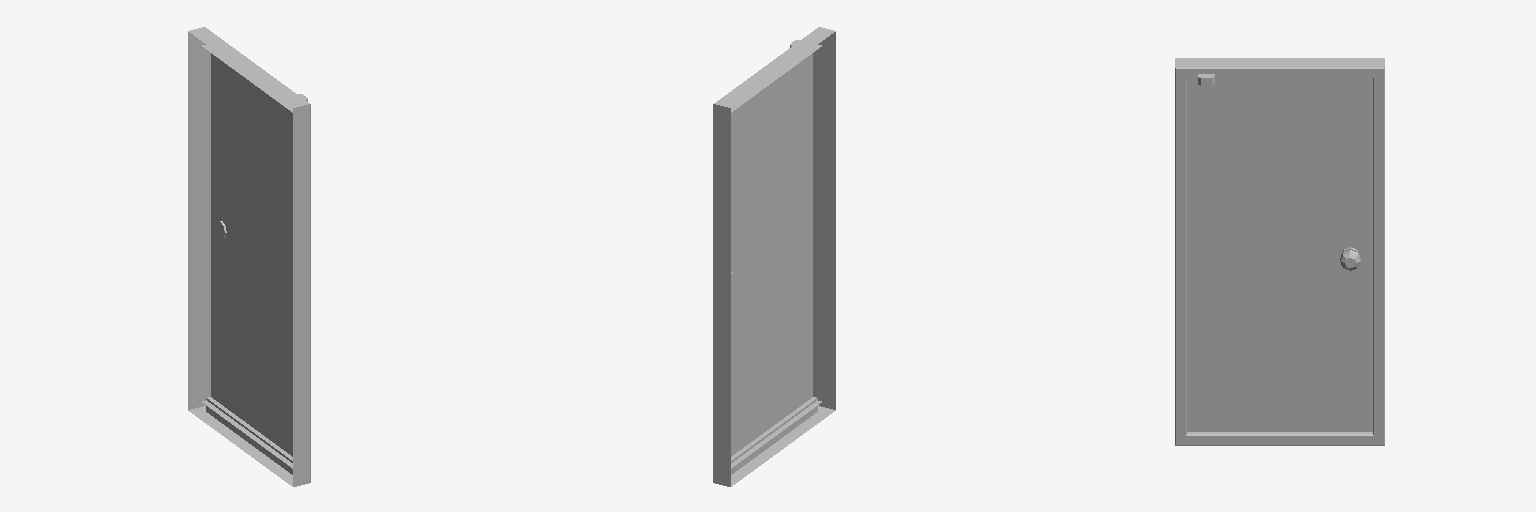
Rendered from Door_Low.obj.
3 views of the same model, side by side, from view 1: azimuth 30°, elevation 25°; view 2: azimuth 150°, elevation 25°; view 3: azimuth 270°, elevation 25° (orthographic).
Parts seen in each view (by area): view 1: Low; view 2: Low; view 3: Low.
Part boxes in pixels (x1,y1,x2,y2): Low: (188,27,310,486); Low: (713,27,835,486); Low: (1175,58,1384,445).
Size of the model in its own units: 0.533 by 6.24 by 3.13.